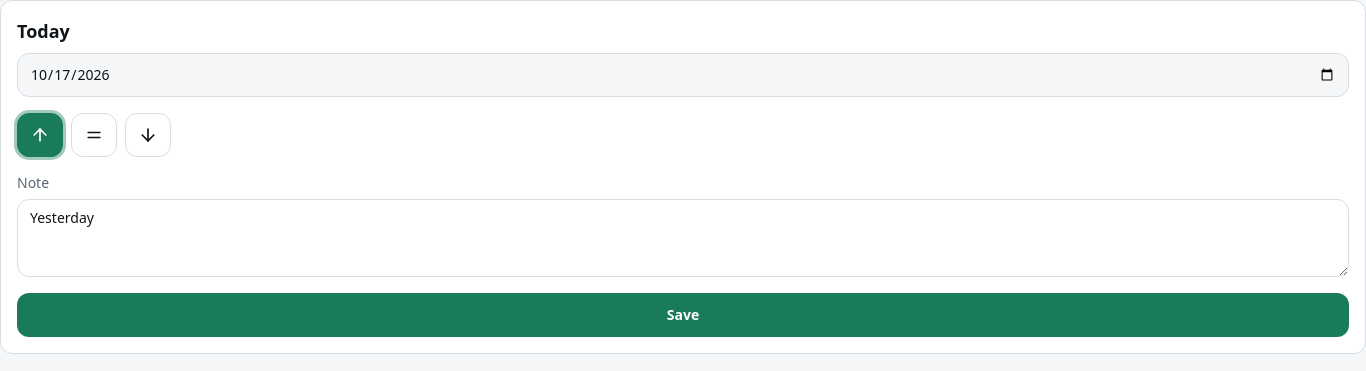
DayEntryPanel › calls onDateChange and reloads the entry for the selected date
Expected: the text box labelled "Note" holds "Yesterday", [17,199,1349,277]
Step 1. Type "2026-10-18" into the date field named "Date" → [683, 75], box [17,53,1349,97]
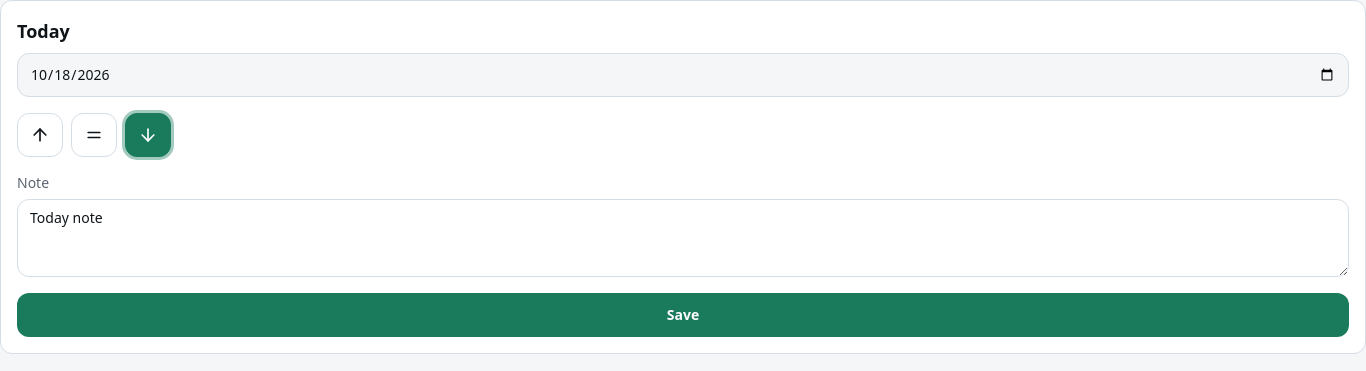
Expected: the text box labelled "Note" holds "Today note", [17,199,1349,277]
